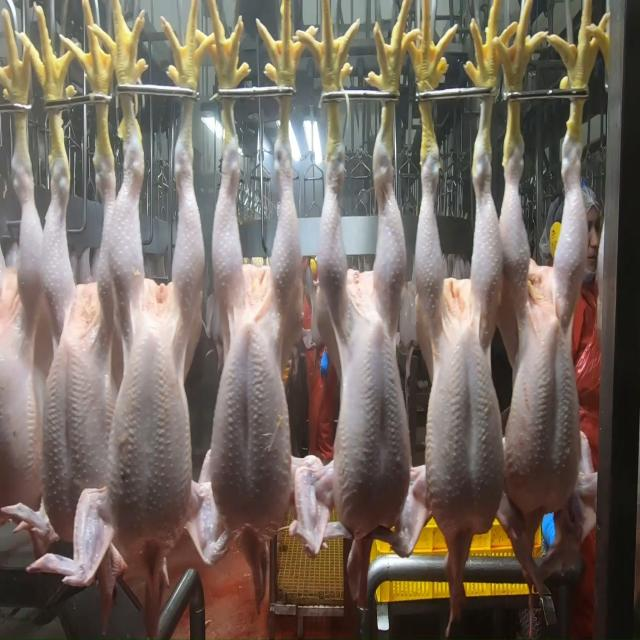chicken: (105, 134, 208, 538), (307, 171, 412, 538), (202, 159, 297, 532), (408, 166, 499, 548), (497, 159, 593, 514), (43, 157, 111, 538)
